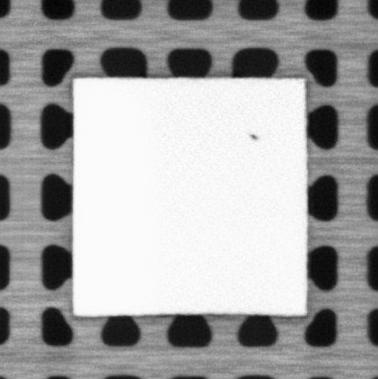DIE_INK: (248, 132, 258, 142)
